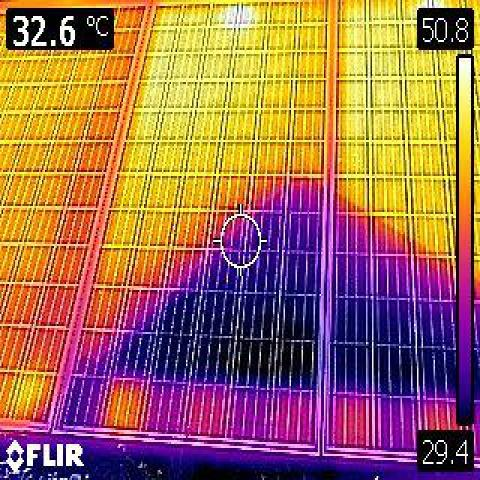fault: (226, 6, 253, 25)
